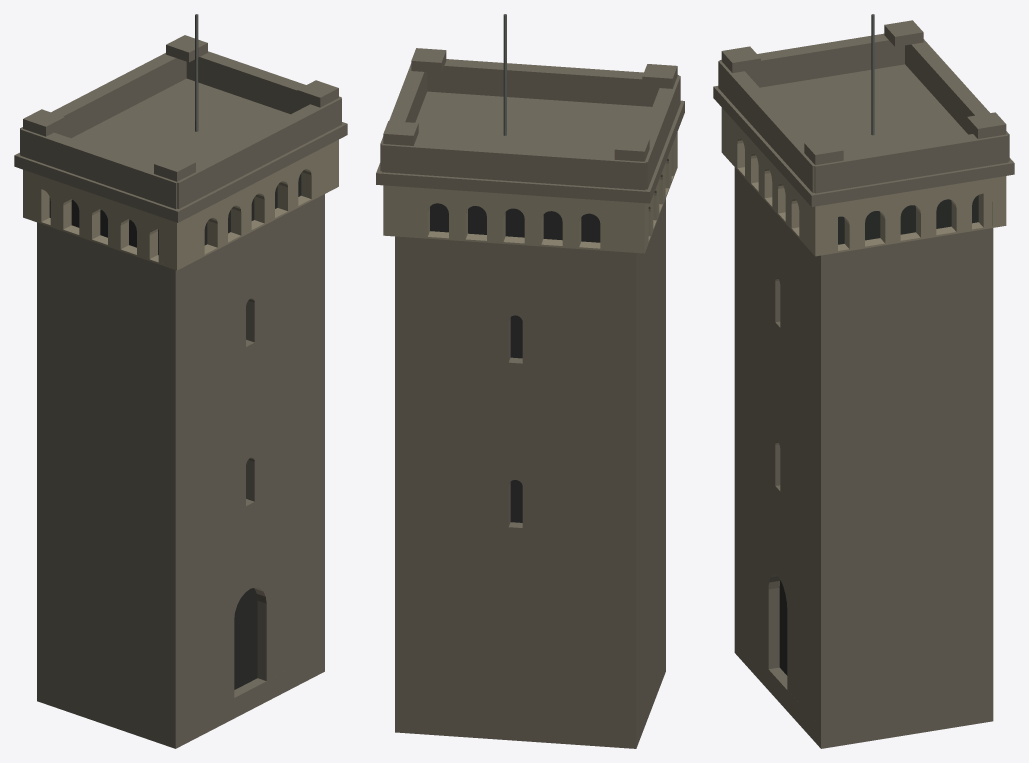
The model's file is tour-de-la-miotte-near.glb.
3 renders of one model, left to right at view 1: azimuth 30°, elevation 25°; view 2: azimuth 150°, elevation 25°; view 3: azimuth 270°, elevation 25°, orthographic. The views are drawn at different scales.
Visible parts, largest first — view 1: tour-de-la-miotte-0-stone, tour-de-la-miotte-0-trim, tour-de-la-miotte-0-shadow; view 2: tour-de-la-miotte-0-stone, tour-de-la-miotte-0-trim, tour-de-la-miotte-0-shadow; view 3: tour-de-la-miotte-0-stone, tour-de-la-miotte-0-trim, tour-de-la-miotte-0-shadow.
Part boxes in pixels (x1=…): tour-de-la-miotte-0-stone: x1=14, y1=35, x2=347, y2=748; tour-de-la-miotte-0-trim: x1=23, y1=139, x2=338, y2=270; tour-de-la-miotte-0-shadow: x1=49, y1=173, x2=301, y2=689; tour-de-la-miotte-0-stone: x1=376, y1=48, x2=684, y2=748; tour-de-la-miotte-0-trim: x1=383, y1=132, x2=677, y2=253; tour-de-la-miotte-0-shadow: x1=430, y1=203, x2=600, y2=522; tour-de-la-miotte-0-stone: x1=713, y1=20, x2=1014, y2=748; tour-de-la-miotte-0-trim: x1=721, y1=107, x2=1006, y2=256; tour-de-la-miotte-0-shadow: x1=779, y1=195, x2=978, y2=675.
Size of the model in its own units: 6.59 by 14.8 by 5.92.
